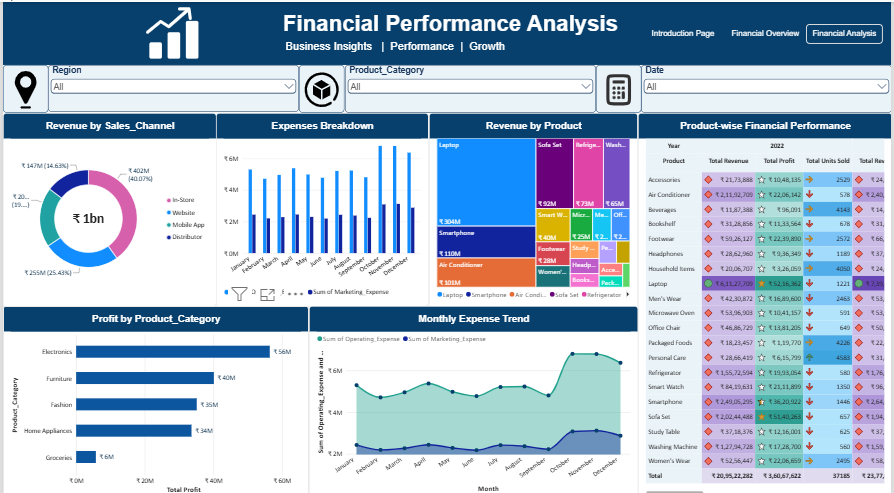

The dashboard page shown, as its layout file describes it:
{"tool":"powerbi","page":{"name":"Detailed Financial Analysis","canvas":[1920,1080],"ordinal":2},"visuals":[{"type":"pivotTable","title":"Product-wise Financial Performance","fields":{"Columns":["DateTable.Year"],"Rows":["Financial Performance.Product"],"Values":["Financial Performance.Total Revenue","Financial Performance.Total Profit","Financial Performance.Total Units Sold"]},"box":[1370.7,239.4,549.3,841.6],"z":0},{"type":"donutChart","title":" Revenue by Sales_Channel","fields":{"Category":["Financial Performance.Sales_Channel"],"Y":["Financial Performance.Total Revenue"]},"box":[0,239.4,461.1,418.3],"z":1000},{"type":"clusteredColumnChart","title":"Expenses  Breakdown","fields":{"Category":["DateTable.Month"],"Y":["Sum(Financial Performance.Operating_Expense)","Sum(Financial Performance.Marketing_Expense)"]},"box":[461.1,239.4,458.6,418.3],"z":2000},{"type":"treemap","title":"Revenue by Product","fields":{"Group":["Financial Performance.Product"],"Values":["Financial Performance.Total Revenue"]},"box":[919.7,239.4,451,423.3],"z":3000},{"type":"clusteredBarChart","title":"Profit by Product_Category","fields":{"Category":["Financial Performance.Product_Category"],"Y":["Financial Performance.Total Profit"]},"box":[0,657.6,660.2,423.3],"z":4000},{"type":"areaChart","title":"Monthly Expense Trend","fields":{"Category":["DateTable.Month"],"Y":["Sum(Financial Performance.Operating_Expense)","Sum(Financial Performance.Marketing_Expense)"]},"box":[660.2,657.6,710.6,420.8],"z":5000},{"type":"slicer","fields":{"Values":["DateTable.Date"]},"box":[1378.3,136.1,541.7,103.3],"z":6000},{"type":"slicer","fields":{"Values":["Financial Performance.Product_Category"]},"box":[738.3,136.1,541.7,103.3],"z":7000},{"type":"textbox","box":[0,136.1,98.3,103.3],"z":8000},{"type":"textbox","box":[640,136.1,98.3,103.3],"z":9000},{"type":"textbox","box":[1280,136.1,98.3,103.3],"z":10000},{"type":"image","box":[1280,148.7,98.3,80.6],"z":11000},{"type":"image","box":[640,148.7,98.3,80.6],"z":12000},{"type":"slicer","fields":{"Values":["Financial Performance.Region"]},"box":[98.3,136.1,541.7,100.8],"z":13000},{"type":"image","box":[0,148.7,98.3,80.6],"z":14000},{"type":"textbox","box":[0,0,1920,136.1],"z":15000},{"type":"textbox","box":[490.3,62.6,639.4,73.4],"z":16000},{"type":"image","box":[231.1,0,276.5,136.1],"z":17000},{"type":"actionButton","box":[1734.5,47.5,166.3,43.2],"z":17002},{"type":"actionButton","box":[1559.5,47.5,175,43.2],"z":17003},{"type":"actionButton","box":[1378.1,47.5,181.4,43.2],"z":17004}]}

Visuals, with their boxes in screenshot pixels (x1, y1, x2, y2), scaled from the page's 1920x1080 canvas onto the 894x493 screenshot:
"Product-wise Financial Performance" pivotTable: 638/109/893/492
" Revenue by Sales_Channel" donutChart: 0/109/215/300
"Expenses  Breakdown" clusteredColumnChart: 215/109/428/300
"Revenue by Product" treemap: 428/109/638/303
"Profit by Product_Category" clusteredBarChart: 0/300/307/492
"Monthly Expense Trend" areaChart: 307/300/638/492
slicer - DateTable.Date: 642/62/893/109
slicer - Financial Performance.Product_Category: 344/62/596/109
textbox: 0/62/46/109
textbox: 298/62/344/109
textbox: 596/62/642/109
image: 596/68/642/105
image: 298/68/344/105
slicer - Financial Performance.Region: 46/62/298/108
image: 0/68/46/105
textbox: 0/0/893/62
textbox: 228/29/526/62
image: 108/0/236/62
actionButton: 808/22/885/41
actionButton: 726/22/808/41
actionButton: 642/22/726/41
